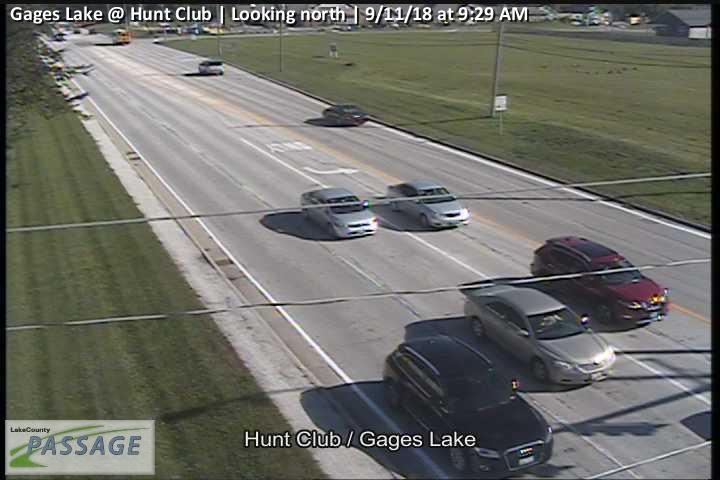SUV: (531, 235, 669, 328), (198, 60, 223, 73)
Sedan: (384, 334, 554, 477), (464, 284, 615, 385), (301, 188, 379, 239), (388, 182, 471, 228), (323, 106, 368, 126)
Truck: (111, 28, 129, 43)
